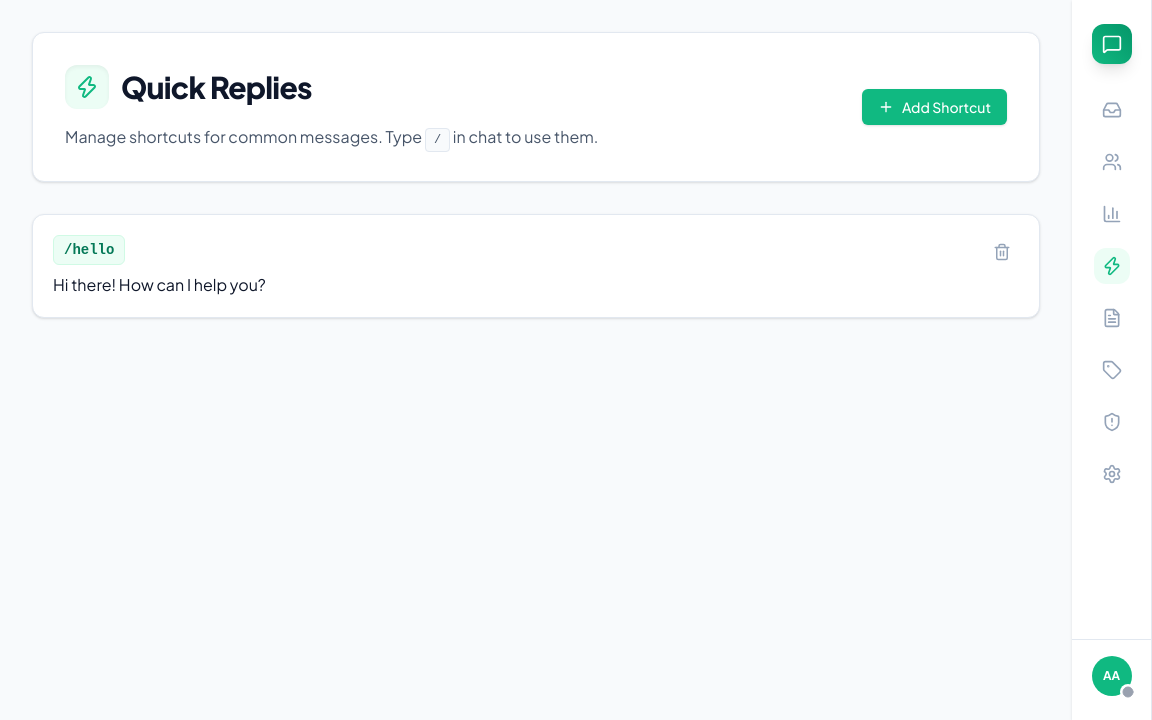
Test: Quick Replies Page › deletes a quick reply via a confirmation modal, not a native confirm()
Expected: the text "/hello" is shown, [53,235,125,265]
Click the button titled "Delete shortcut".
click(1002, 252)  # box [985,235,1019,269]
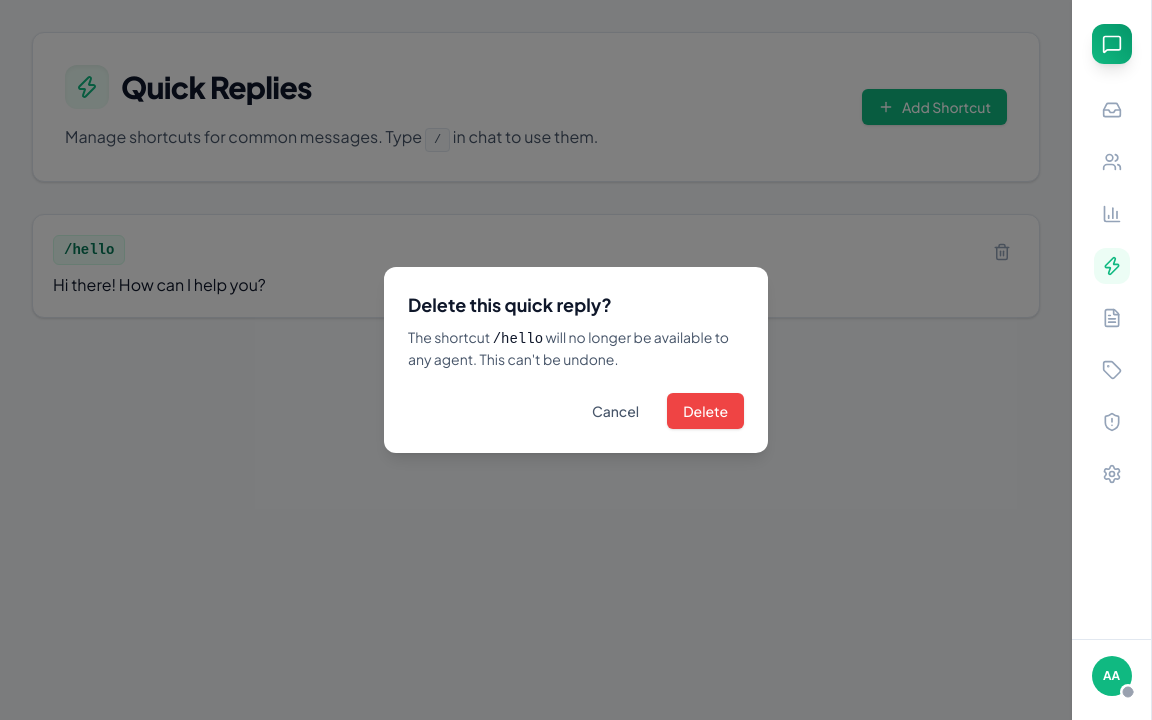
Result: the heading "Delete this quick reply?" is shown at [408,293,612,316]
Click the button "Delete".
click(706, 411)  # box [667,393,744,429]
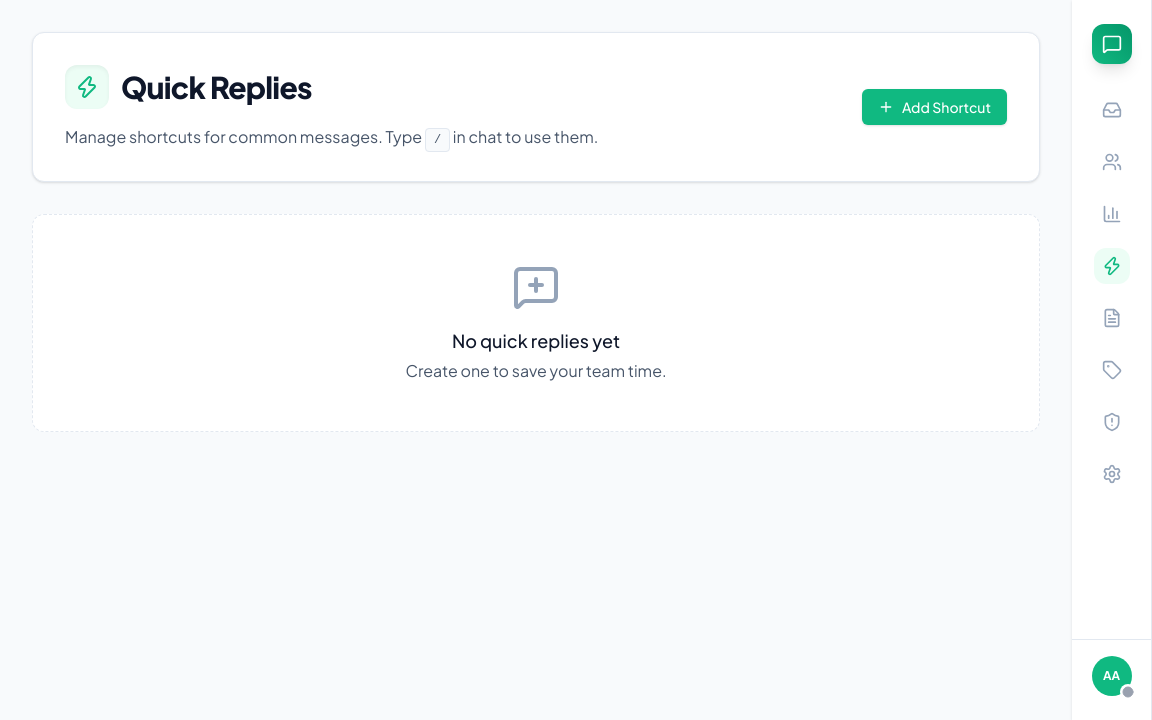
Result: the text "/hello" is gone
